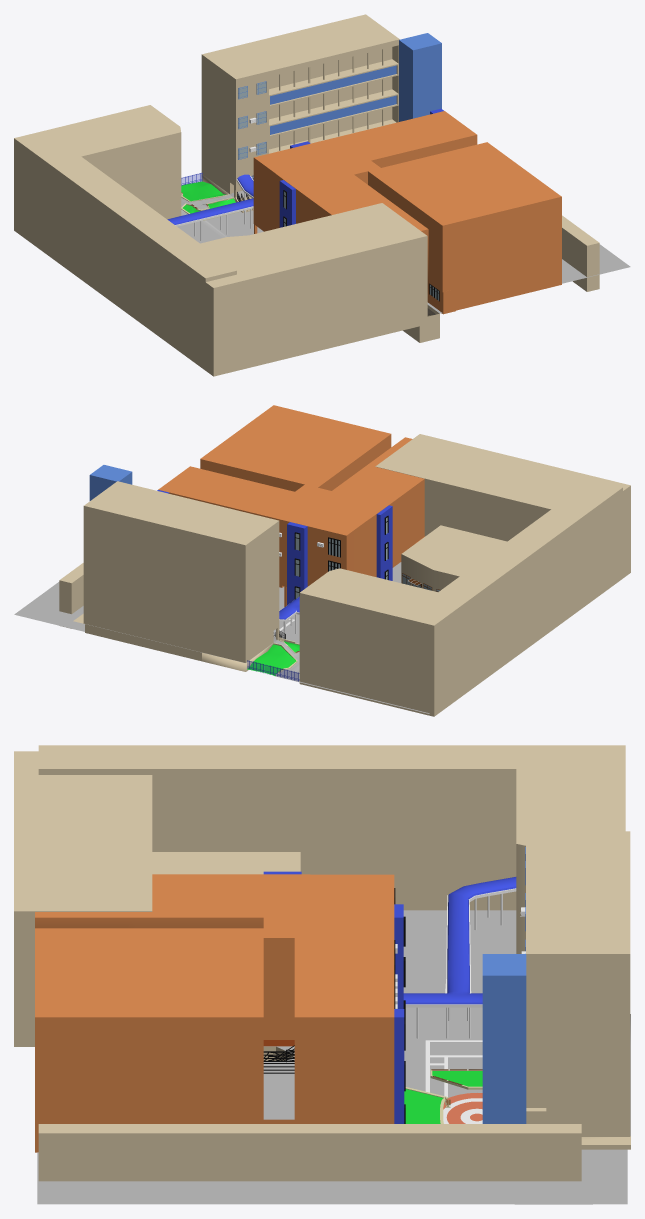
The model's file is Finalll.fbx.
3 views of the same model, one above another, from view 1: azimuth 30°, elevation 25°; view 2: azimuth 150°, elevation 25°; view 3: azimuth 270°, elevation 25° (orthographic). The views are drawn at different scales.
Parts seen in each view (by area): view 1: Cube.062_Cube.001, Cube.068_Cube.001, Cube.011, Cube.011_Cube.001, Plane.003, Cube.033, Cube.034, Circle.001, Cylinder_Cylinder.001, Cube.033_Cube.001, Cube.006; view 2: Cube.068_Cube.001, Cube.011_Cube.001, Cube.062_Cube.001, Cube.011, Cube.014, Plane.003, Plane.012_Plane.001, Cube.062_Cube.014, Cube.006, Cube.034, Cube.033, Cube.051_Cube.001 (+1 smaller); view 3: Cube.062_Cube.001, Cube.068_Cube.001, Cube.034, Cube.011_Cube.001, Plane.003, Cube.011, Cube.033, Circle.001, Cube.014, Cube_Cube.001, Cube.002, Cylinder.001_Cylinder.008 (+4 smaller).
Boxes of the visible parts, x1=… form: Cube.062_Cube.001: x1=253, y1=111, x2=561, y2=314; Cube.068_Cube.001: x1=14, y1=105, x2=236, y2=370; Cube.011: x1=204, y1=203, x2=427, y2=376; Cube.011_Cube.001: x1=201, y1=14, x2=399, y2=197; Plane.003: x1=177, y1=181, x2=630, y2=342; Cube.033: x1=399, y1=33, x2=441, y2=121; Cube.034: x1=562, y1=215, x2=599, y2=291; Circle.001: x1=167, y1=174, x2=253, y2=226; Cylinder_Cylinder.001: x1=279, y1=49, x2=383, y2=150; Cube.033_Cube.001: x1=238, y1=81, x2=266, y2=159; Cube.006: x1=279, y1=180, x2=295, y2=227; Cube.068_Cube.001: x1=299, y1=480, x2=622, y2=716; Cube.011_Cube.001: x1=83, y1=481, x2=279, y2=662; Cube.062_Cube.001: x1=158, y1=405, x2=424, y2=587; Cube.011: x1=375, y1=434, x2=630, y2=578; Cube.014: x1=401, y1=525, x2=506, y2=591; Plane.003: x1=14, y1=562, x2=429, y2=713; Plane.012_Plane.001: x1=73, y1=613, x2=279, y2=671; Cube.062_Cube.014: x1=287, y1=522, x2=307, y2=605; Cube.006: x1=376, y1=505, x2=392, y2=580; Cube.034: x1=59, y1=563, x2=83, y2=628; Cube.033: x1=89, y1=465, x2=132, y2=500; Cube.051_Cube.001: x1=294, y1=515, x2=388, y2=599; Cube.062_Cube.001: x1=35, y1=874, x2=394, y2=1152; Cube.068_Cube.001: x1=38, y1=745, x2=625, y2=953; Cube.034: x1=38, y1=1124, x2=581, y2=1181; Cube.011_Cube.001: x1=526, y1=831, x2=630, y2=1136; Plane.003: x1=37, y1=910, x2=627, y2=1204; Cube.011: x1=14, y1=751, x2=152, y2=1046; Cube.033: x1=482, y1=954, x2=526, y2=1123; Circle.001: x1=403, y1=877, x2=516, y2=1007; Cube.014: x1=152, y1=852, x2=300, y2=874; Cube_Cube.001: x1=404, y1=1087, x2=448, y2=1123; Cube.002: x1=394, y1=1009, x2=404, y2=1123; Cylinder.001_Cylinder.008: x1=443, y1=1093, x2=482, y2=1123.
Bounding box in the file's own units: 1150 × 399 × 943.
